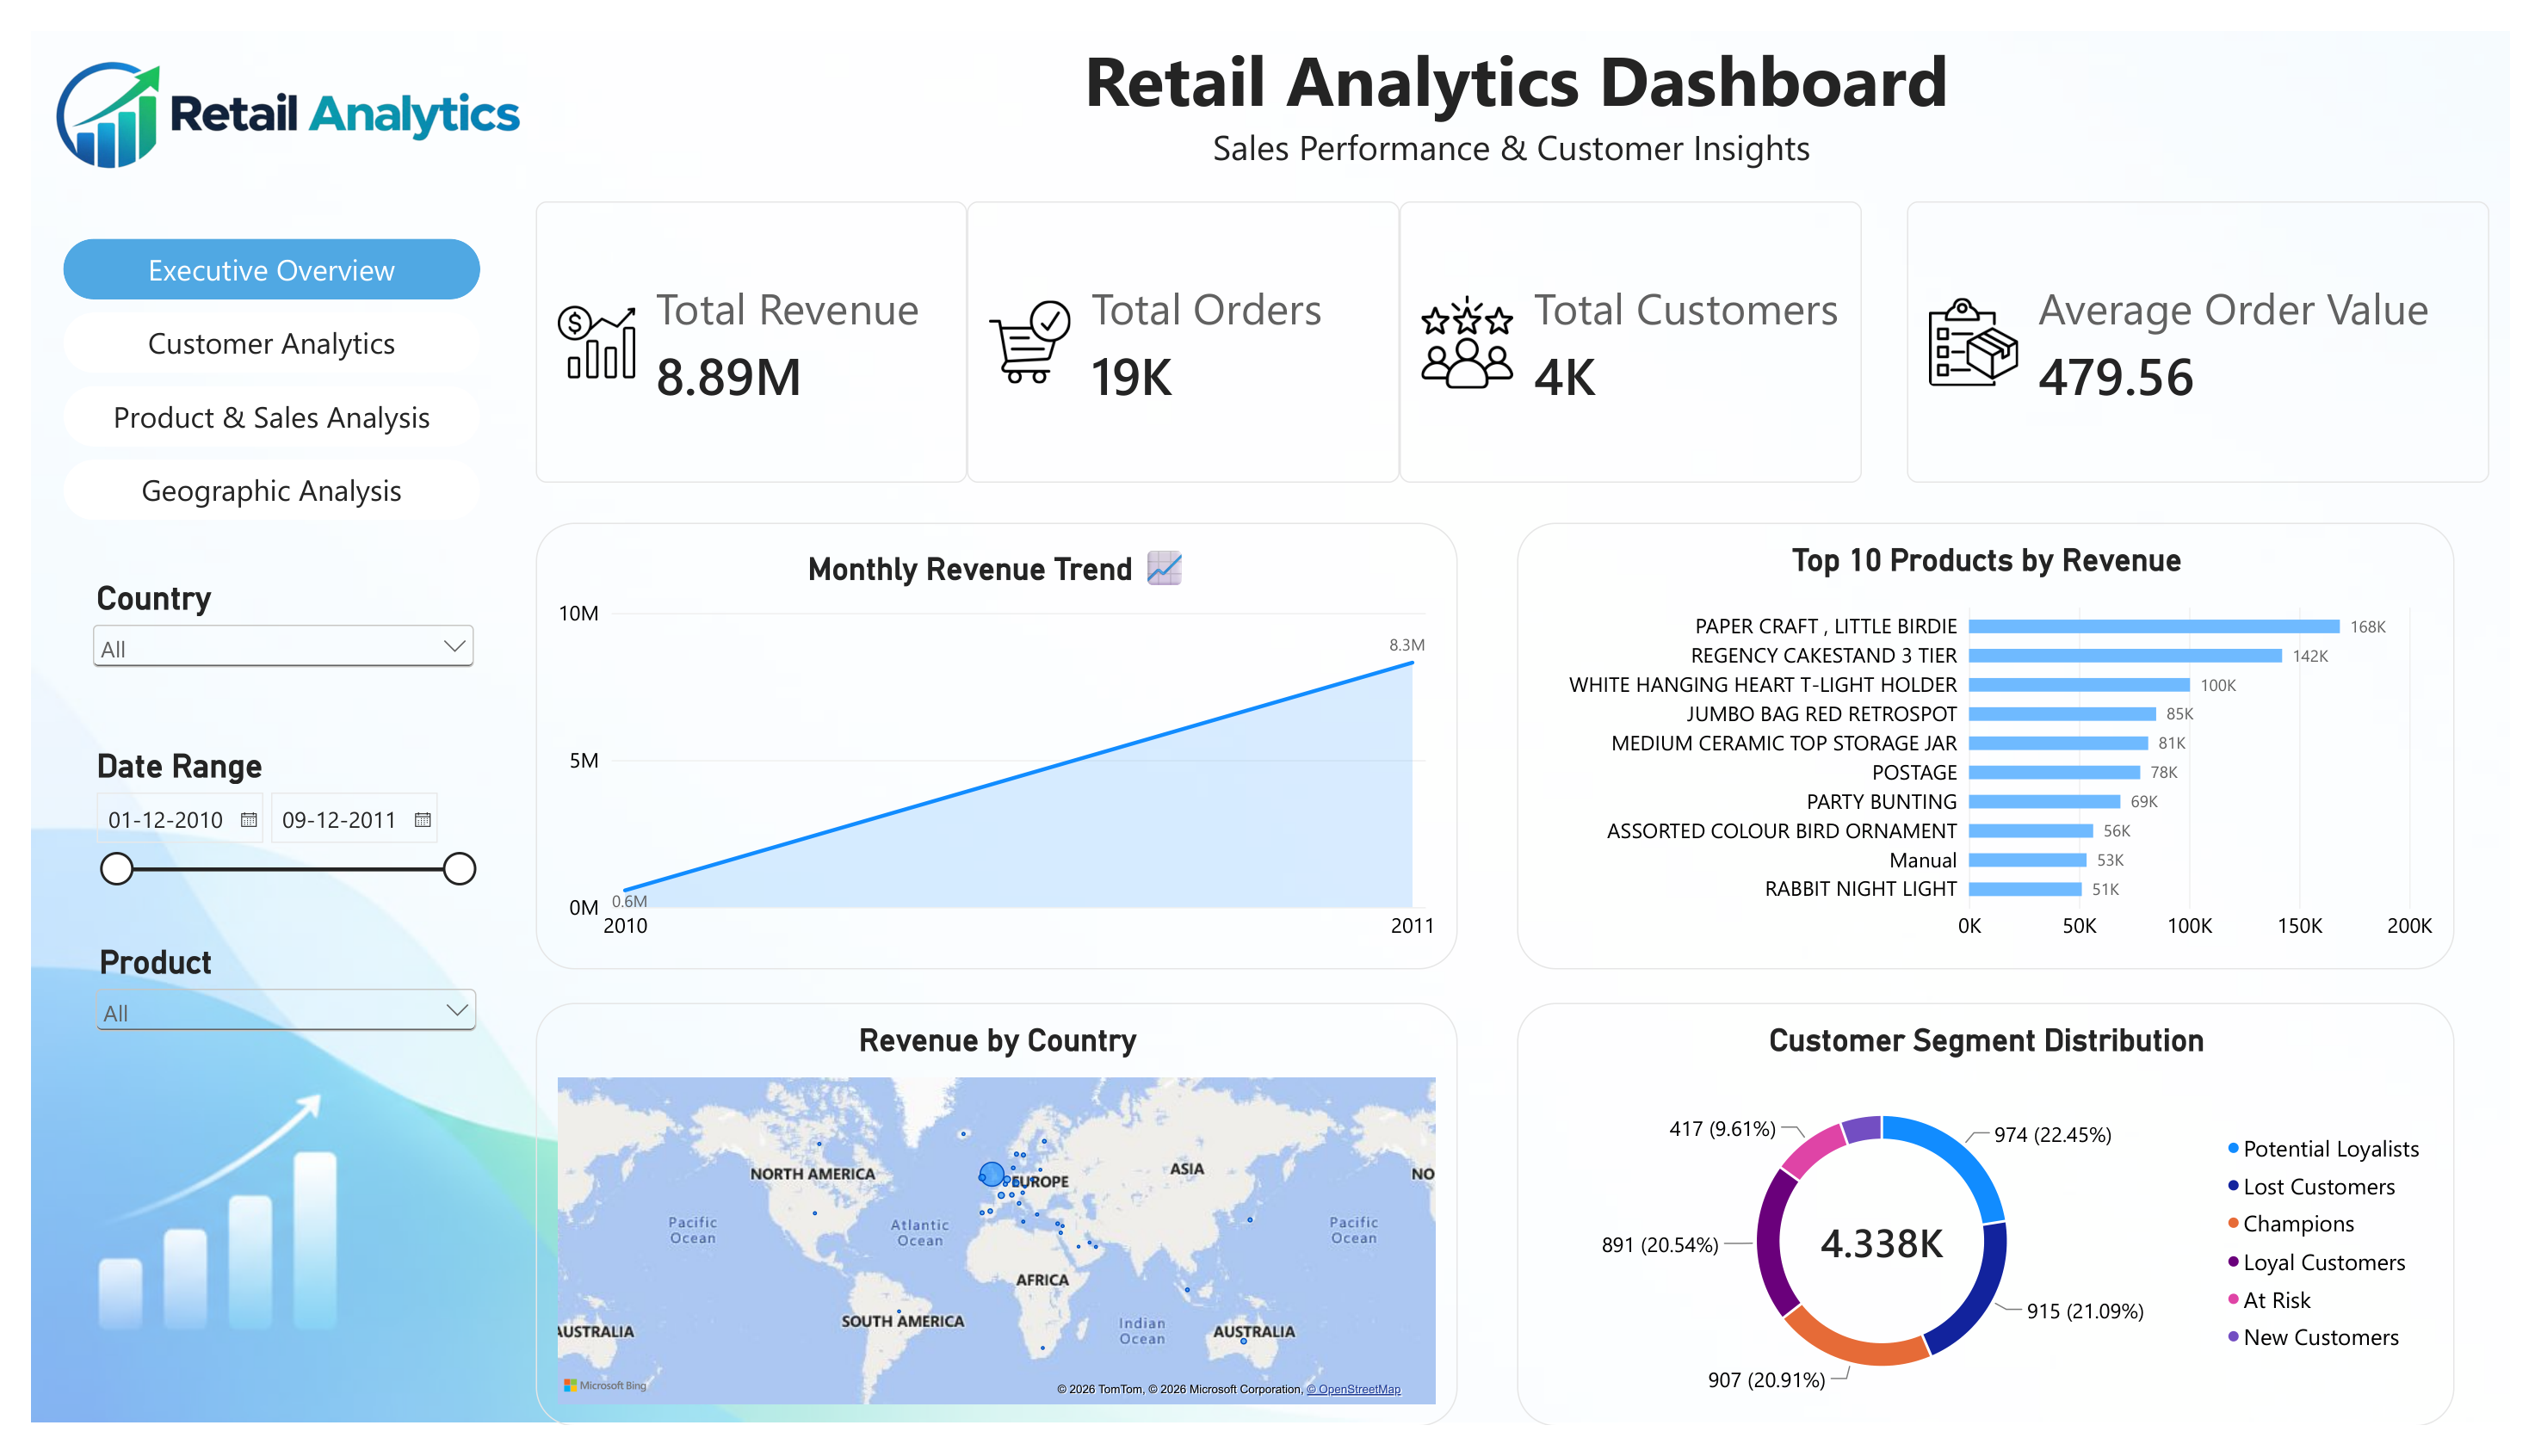

The page's visual inventory and layout, read from the dashboard file:
{"tool":"powerbi","page":{"name":"Executive Overview","canvas":[1920,1080],"ordinal":0},"visuals":[{"type":"cardVisual","fields":{"Data":["RetailTransactions.Total Revenue"]},"box":[391.1,131.7,333.4,218.2],"z":0},{"type":"cardVisual","fields":{"Data":["RetailTransactions.Total Orders"]},"box":[724.5,131.7,335.5,218.2],"z":1000},{"type":"cardVisual","fields":{"Data":["RetailTransactions.Total Customers"]},"box":[1060,131.7,358.1,218.2],"z":2000},{"type":"cardVisual","fields":{"Data":["RetailTransactions.Average Order Value"]},"box":[1453.2,131.7,450.8,218.2],"z":3000},{"type":"lineChart","title":"Monthly Revenue Trend 📈","fields":{"Category":["RetailTransactions.InvoiceDate.Variation.Date Hierarchy.Year","RetailTransactions.InvoiceDate.Variation.Date Hierarchy.Month"],"Y":["Sum(RetailTransactions.Revenue)"]},"box":[391.1,380.8,714.2,345.8],"z":4000},{"type":"clusteredBarChart","title":"Top 10 Products by Revenue","fields":{"Category":["RetailTransactions.Description"],"Y":["Sum(RetailTransactions.Revenue)"]},"box":[1150.6,380.8,726.6,345.8],"z":5000},{"type":"map","title":"Revenue by Country","fields":{"Category":["RetailTransactions.Country"],"Size":["Sum(RetailTransactions.Revenue)"]},"box":[391.1,753.3,714.2,327.3],"z":6000},{"type":"donutChart","title":"Customer Segment Distribution","fields":{"Category":["CustomerSegmentation.Customer_Segment"],"Y":["CountNonNull(CustomerSegmentation.CustomerID)"]},"box":[1150.6,753.3,726.6,327.3],"z":7000},{"type":"image","box":[0,0,391.1,146.1],"z":8000},{"type":"textbox","box":[424,0,1453.2,115.3],"z":9000},{"type":"slicer","fields":{"Values":["RetailTransactions.Country"]},"box":[43.2,424,304.6,115.3],"z":10000},{"type":"slicer","fields":{"Values":["RetailTransactions.InvoiceDate"]},"box":[43.2,553.7,304.6,267.6],"z":11000},{"type":"slicer","fields":{"Values":["RetailTransactions.Description"]},"box":[45.3,706,304.6,131.7],"z":12000},{"type":"pageNavigator","box":[24.7,160.5,323.2,220.2],"z":13000}]}

Visuals, with their boxes in screenshot pixels (x1, y1, x2, y2), scaled from the page's 1920x1080 canvas onto the 2541x1456 screenshot:
cardVisual - RetailTransactions.Total Revenue: bbox(517, 177, 959, 472)
cardVisual - RetailTransactions.Total Orders: bbox(959, 177, 1403, 472)
cardVisual - RetailTransactions.Total Customers: bbox(1403, 177, 1876, 472)
cardVisual - RetailTransactions.Average Order Value: bbox(1923, 177, 2519, 472)
"Monthly Revenue Trend 📈" lineChart: bbox(517, 514, 1462, 979)
"Top 10 Products by Revenue" clusteredBarChart: bbox(1523, 514, 2484, 979)
"Revenue by Country" map: bbox(517, 1015, 1462, 1455)
"Customer Segment Distribution" donutChart: bbox(1523, 1015, 2484, 1455)
image: bbox(0, 0, 517, 197)
textbox: bbox(561, 0, 2484, 156)
slicer - RetailTransactions.Country: bbox(57, 571, 461, 727)
slicer - RetailTransactions.InvoiceDate: bbox(57, 746, 461, 1107)
slicer - RetailTransactions.Description: bbox(60, 952, 463, 1129)
pageNavigator: bbox(33, 216, 461, 513)
